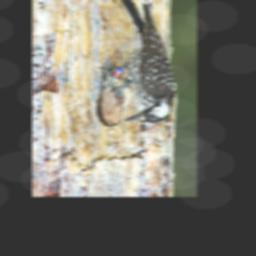Woodpecker: (103, 0, 176, 124)
